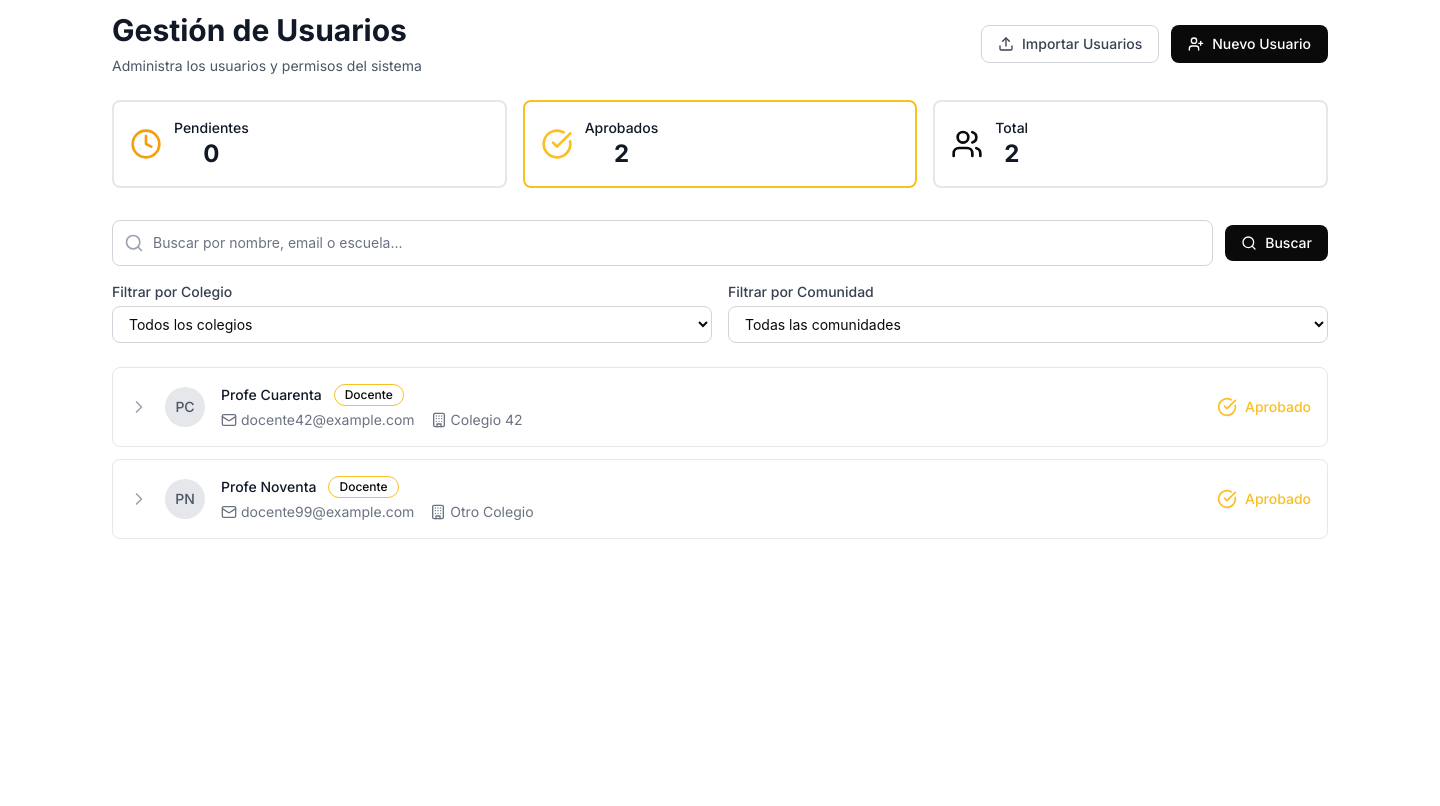
UnifiedUserManagement — ED-scoped props › default: renders Importar Usuarios, expense block, and an enabled school filter
The image size is (1440, 806).
Expected: the button "Importar Usuarios" is shown, [981, 25, 1159, 63]
Expected: the dropdown labelled "Filtrar por Colegio" is enabled, [112, 306, 712, 343]
# (c) Expanding the first approved user reveals the expense block.
Click the heading "Profe Cuarenta".
click(271, 395)  # box [221, 385, 322, 405]
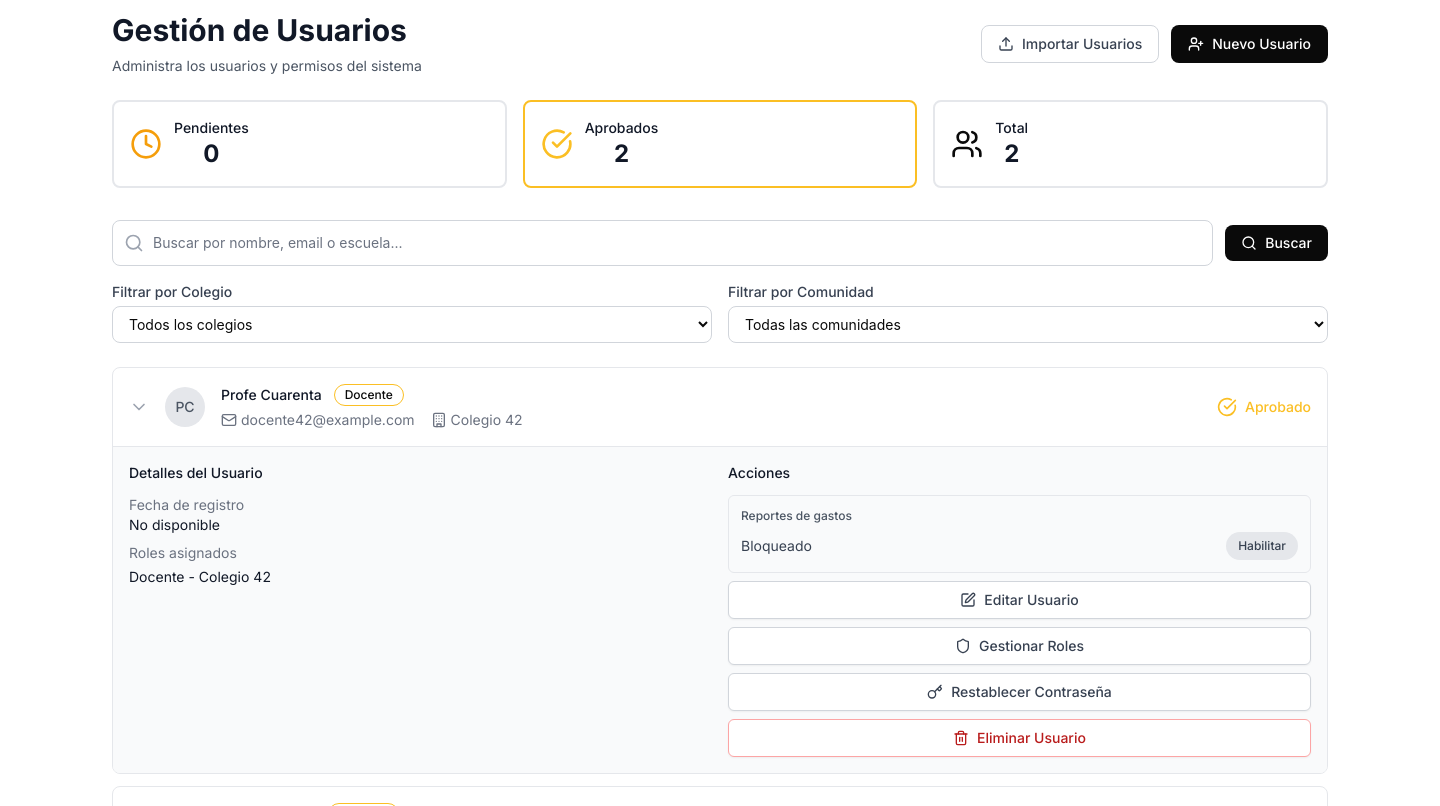
Now the text "Reportes de gastos" is shown, box [741, 508, 852, 523]
